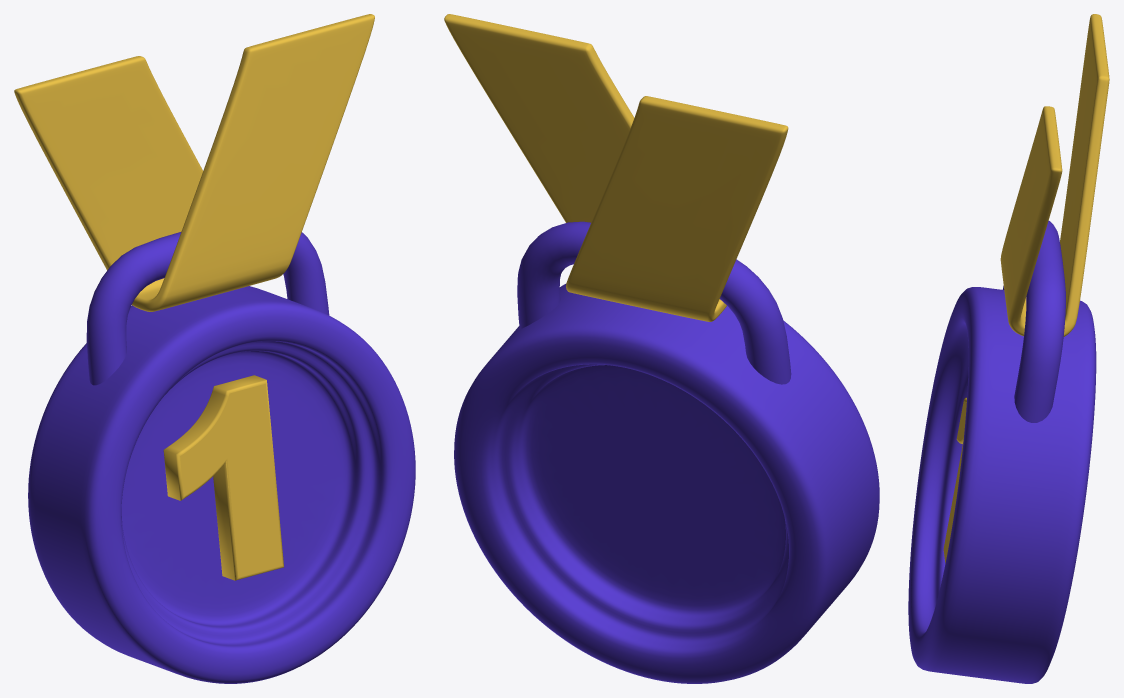
File: medal-3d-icon-813617102078.glb
The picture shows the model from 3 angles, left to right: view 1: azimuth 30°, elevation 25°; view 2: azimuth 150°, elevation 25°; view 3: azimuth 270°, elevation 25°; orthographic projection. The views are drawn at different scales.
Visible parts, largest first — view 1: Medal, Ribbon, Number; view 2: Medal, Ribbon; view 3: Medal, Ribbon, Number.
Boxes of the visible parts, box(x1,y1,x2,y2) form: Medal: box(28, 232, 415, 683); Ribbon: box(14, 14, 374, 311); Number: box(163, 375, 283, 580); Medal: box(454, 221, 879, 683); Ribbon: box(444, 14, 788, 321); Medal: box(908, 221, 1096, 683); Ribbon: box(1000, 14, 1109, 336); Number: box(943, 397, 966, 563).
Size of the model in its own units: 1.38 by 2.22 by 0.6917.
